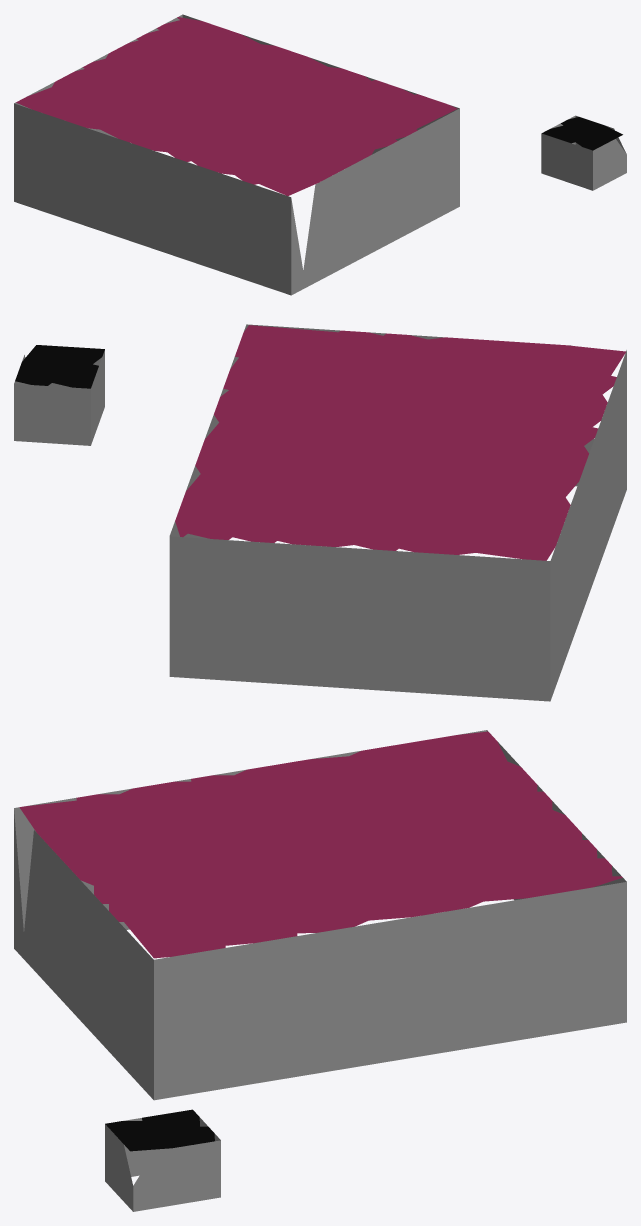
Rendered from voorhof_83000_444000.glb.
The picture shows the model from 3 angles, top to bottom: view 1: azimuth 30°, elevation 25°; view 2: azimuth 150°, elevation 25°; view 3: azimuth 270°, elevation 25°; orthographic projection. The views are drawn at different scales.
Size of the model in its own units: 28.03 by 5.39 by 21.27.
